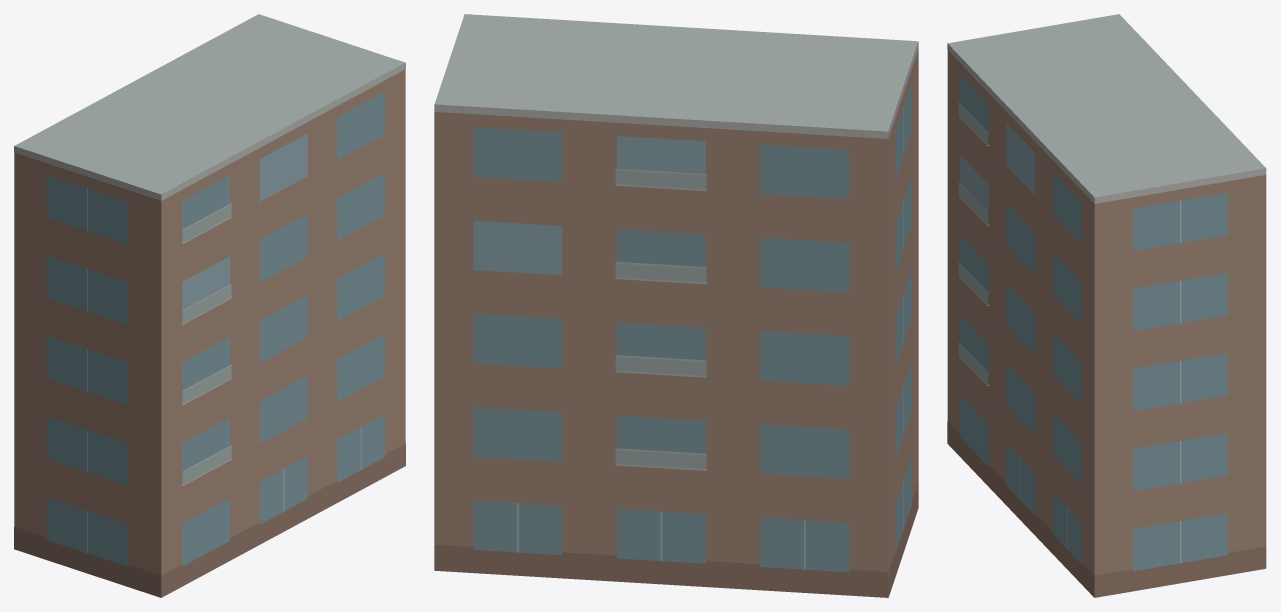
The model's file is residential-4386d35c-eca3-41f5-a9e7-70a1ad59b7f1.glb.
3 renders of one model, left to right at view 1: azimuth 30°, elevation 25°; view 2: azimuth 150°, elevation 25°; view 3: azimuth 270°, elevation 25°, orthographic. The views are drawn at different scales.
Visible parts, largest first — view 1: residential-4386d35c-eca3-41f5-a9e7-70a1ad59b7f1.tmp; view 2: residential-4386d35c-eca3-41f5-a9e7-70a1ad59b7f1.tmp; view 3: residential-4386d35c-eca3-41f5-a9e7-70a1ad59b7f1.tmp.
Part boxes in pixels (x1,y1,x2,y2): residential-4386d35c-eca3-41f5-a9e7-70a1ad59b7f1.tmp: (14,14,405,597); residential-4386d35c-eca3-41f5-a9e7-70a1ad59b7f1.tmp: (434,14,918,597); residential-4386d35c-eca3-41f5-a9e7-70a1ad59b7f1.tmp: (947,14,1266,597).
Size of the model in its own units: 15.01 by 15.25 by 11.02.
